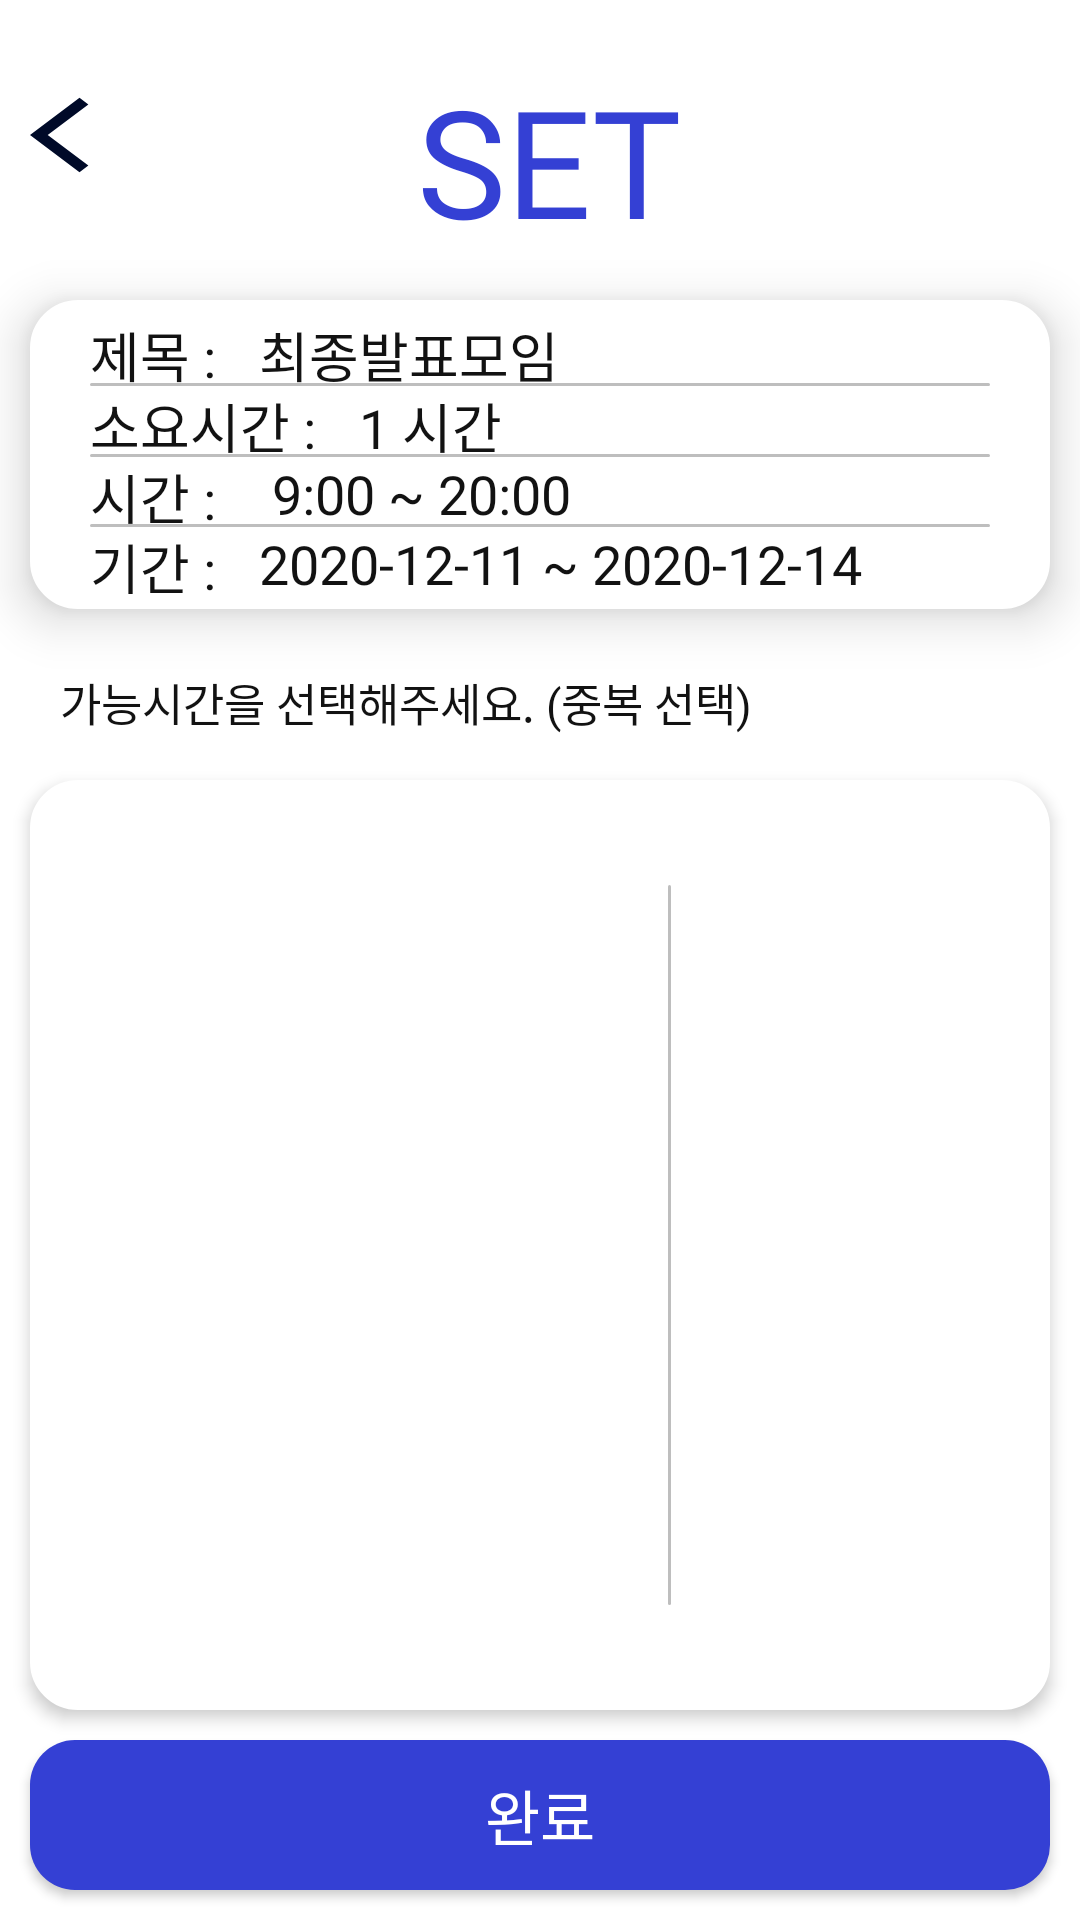

Locate icon controls on the screen. Image size 1080px×1920px, boxes as (x1, y1, x2, y2).
arrow back: (30, 98, 88, 172)
